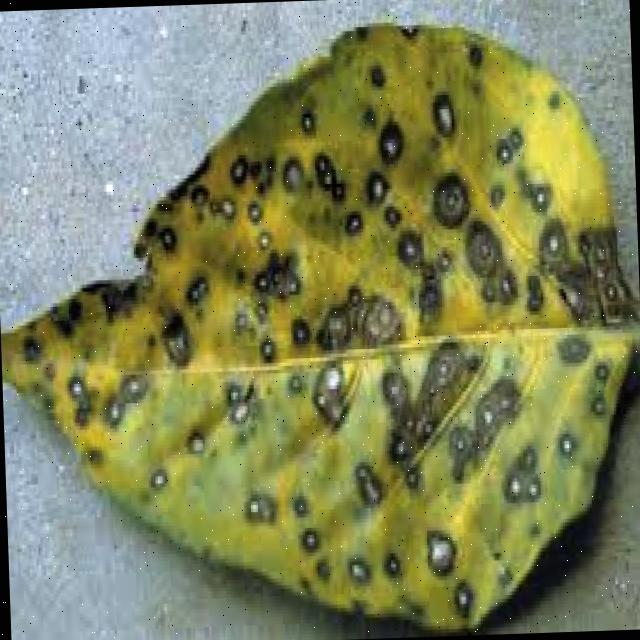leaf spot: (0, 13, 634, 637)
